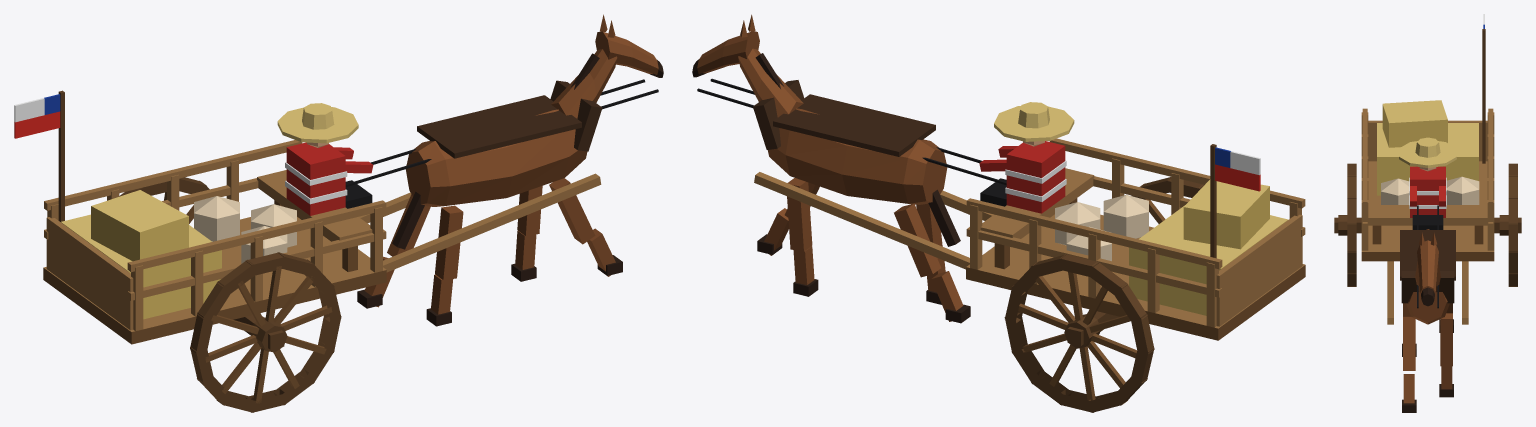
Rendered from carreta.obj.
3 renders of one model, left to right at view 1: azimuth 30°, elevation 25°; view 2: azimuth 150°, elevation 25°; view 3: azimuth 270°, elevation 25°, orthographic. The views are drawn at different scales.
Visible parts, largest first — view 1: carreta; view 2: carreta; view 3: carreta.
Part boxes in pixels (left/top/right/bottom): carreta: left=14, top=14, right=663, bottom=412; carreta: left=692, top=14, right=1305, bottom=412; carreta: left=1334, top=14, right=1521, bottom=412.
Bounding box in the file's own units: 6.19 × 2.71 × 2.2.
